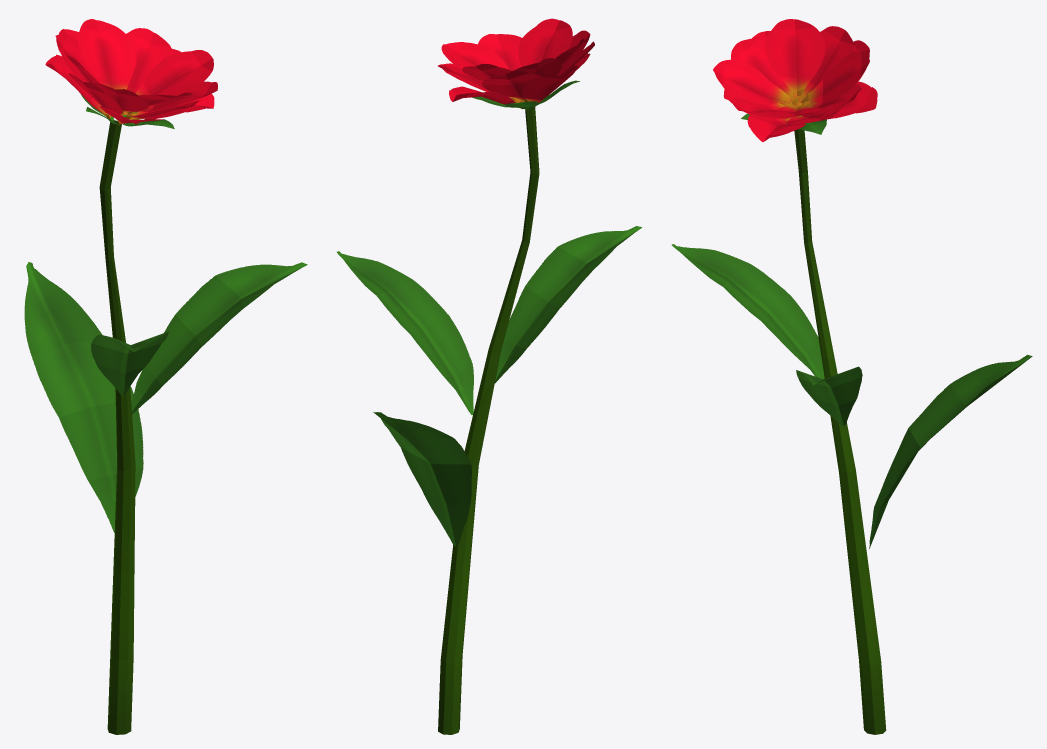
Rendered from cicek_2.fbx.
3 renders of one model, left to right at view 1: azimuth 30°, elevation 25°; view 2: azimuth 150°, elevation 25°; view 3: azimuth 270°, elevation 25°, orthographic. The views are drawn at different scales.
Visible parts, largest first — view 1: cicek_02; view 2: cicek_02; view 3: cicek_02.
Boxes of the visible parts, x1=… form: cicek_02: x1=24, y1=19, x2=307, y2=734; cicek_02: x1=337, y1=18, x2=641, y2=734; cicek_02: x1=671, y1=19, x2=1032, y2=734.
Bounding box in the file's own units: 0.261 × 0.344 × 0.707.
